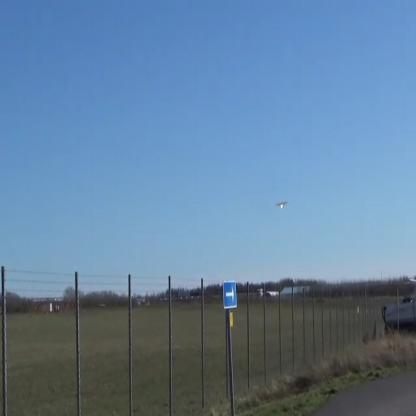CIV_Plane: (275, 198, 290, 214)
